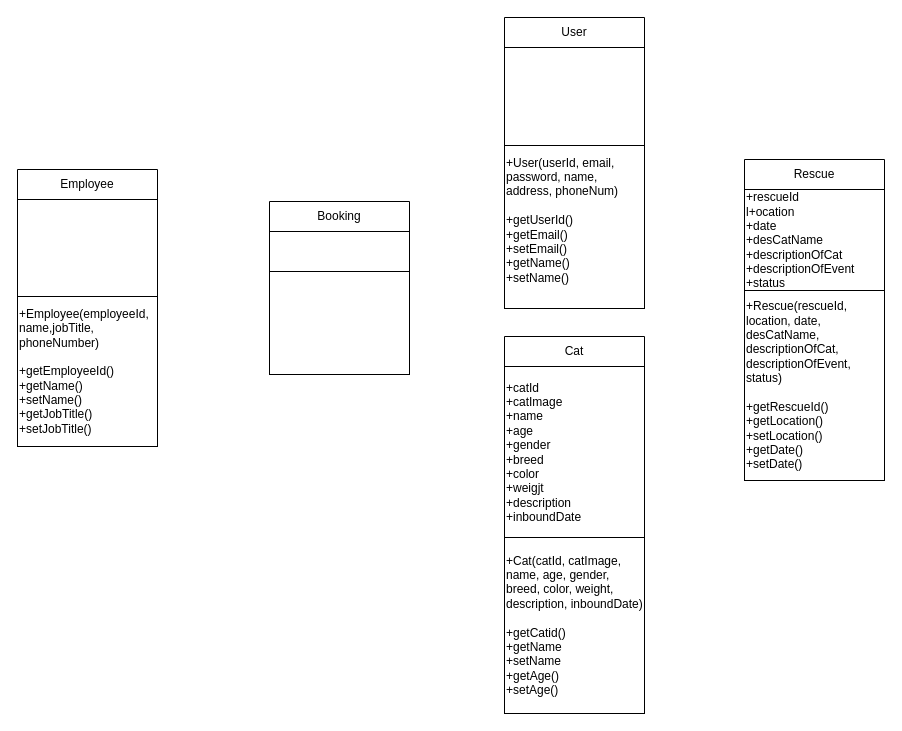
Some shapes in this 902 by 731 pixel diagram are drawn without their labels. The shapes that lost their labels are listed below. From the top down, each one's centre as x and y in pixels, then its label:
At pixel 574 97: "+userID +email +password +name +address +phoneNum".
At pixel 87 250: "+employeeId +name +j obTitle +phoneNumber".
At pixel 339 251: "+bookingID +time".
At pixel 339 322: "+Booking(bookingId, time) +getBookingId() +getTIme() +setTIme()".
